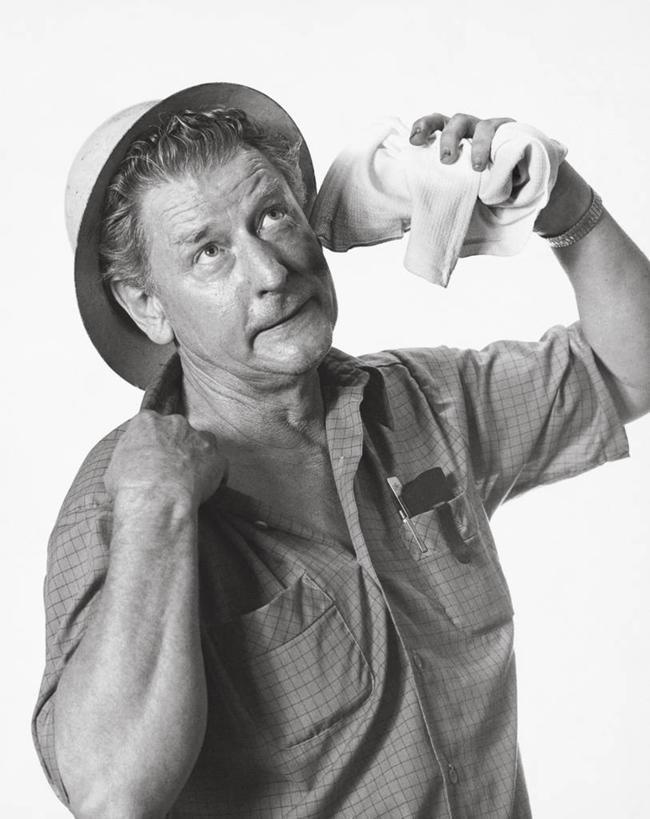helmet: (60, 90, 193, 381)
